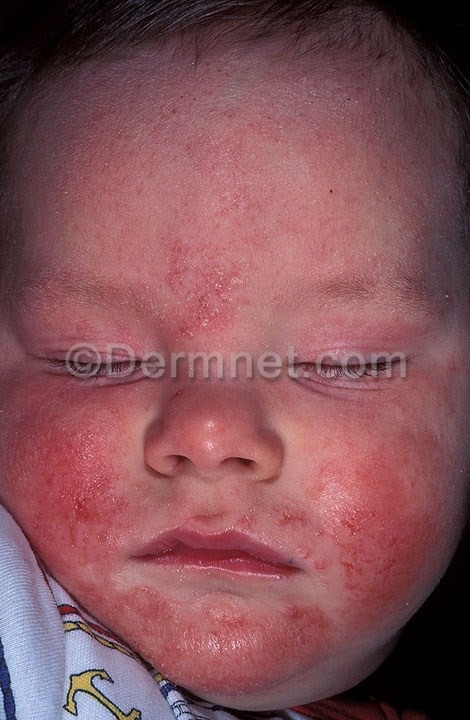Eczema: (37, 58, 438, 255), (293, 411, 467, 631), (109, 595, 335, 695), (10, 400, 136, 576), (165, 259, 294, 341)
